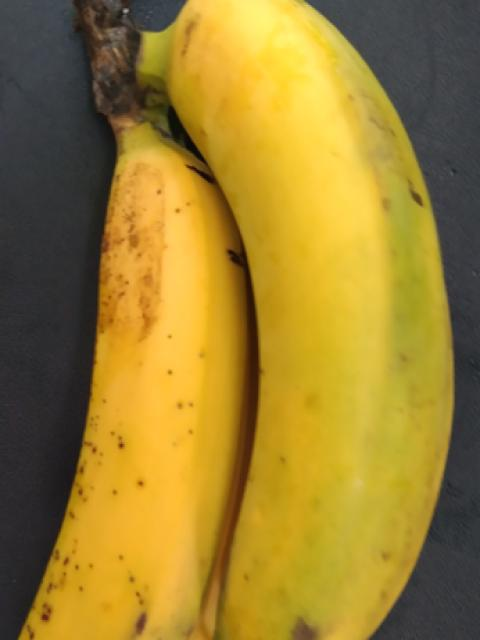freshripe: (172, 13, 473, 639)
ripe: (19, 131, 266, 639)
